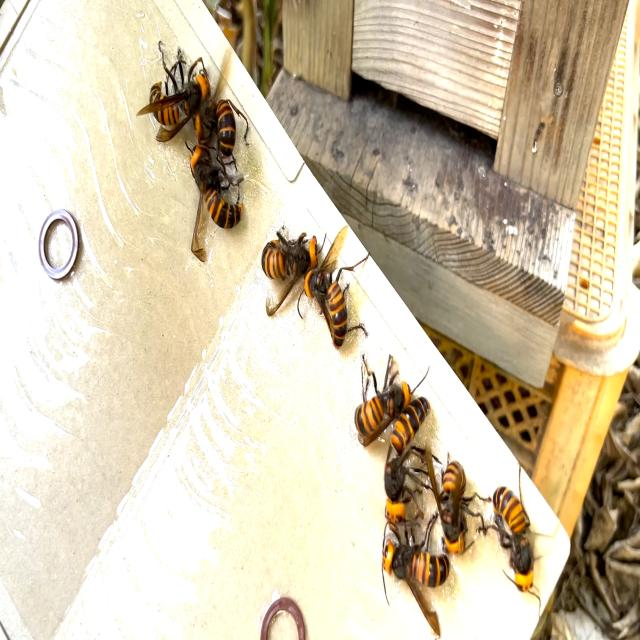Hornets: (477, 461, 551, 616), (296, 226, 373, 356), (380, 520, 450, 638), (424, 439, 491, 560), (137, 38, 210, 145), (184, 138, 243, 265), (356, 350, 430, 450), (379, 396, 434, 525), (260, 226, 327, 320), (202, 48, 252, 172)
